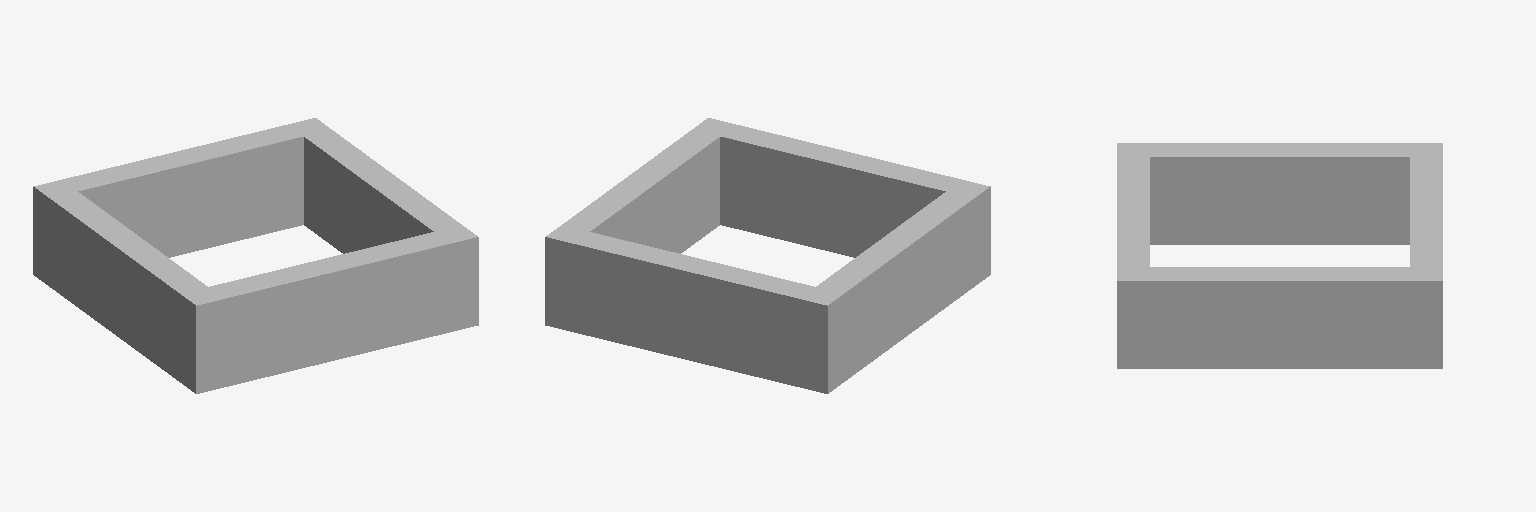
File: FloatingGlowingRing 1.obj
3 renders of one model, left to right at view 1: azimuth 30°, elevation 25°; view 2: azimuth 150°, elevation 25°; view 3: azimuth 270°, elevation 25°, orthographic.
Bounding box in the file's own units: 20 × 6 × 20.